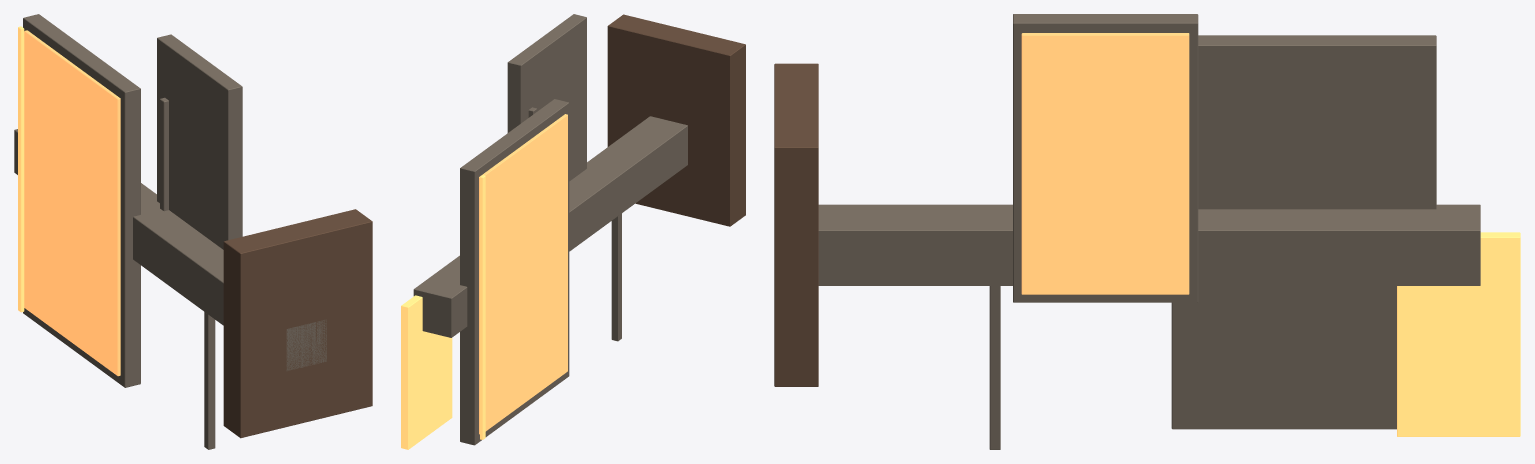
File: mass_billboard_stack_canyon_r.glb
3 views of the same model, side by side, from view 1: azimuth 30°, elevation 25°; view 2: azimuth 150°, elevation 25°; view 3: azimuth 270°, elevation 25° (orthographic). The views are drawn at different scales.
Parts seen in each view (by area): view 1: FlightKit_MassBillboard_canyon_R; view 2: FlightKit_MassBillboard_canyon_R; view 3: FlightKit_MassBillboard_canyon_R.
Boxes of the visible parts, x1,y1,x2,y2 form: FlightKit_MassBillboard_canyon_R: [14, 14, 372, 449]; FlightKit_MassBillboard_canyon_R: [401, 14, 745, 449]; FlightKit_MassBillboard_canyon_R: [774, 14, 1520, 449].
Size of the model in its own units: 4.5 by 11.25 by 16.9.
